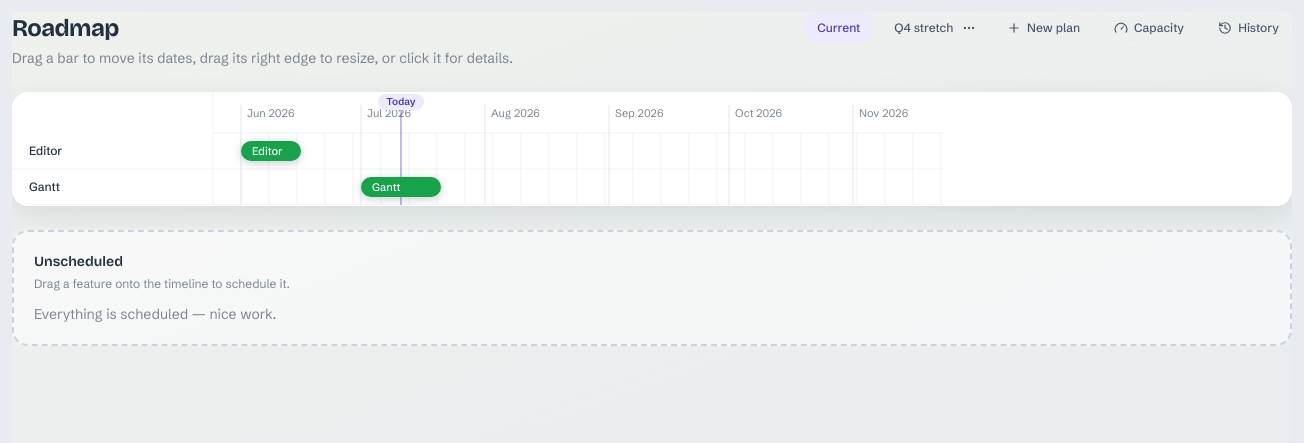
Scenario: Roadmap scenario mode › shows the banner and renders bars from plan entries
Click the button with test id "plan-pill-plan-1" at x=924, y=28, box [894,20,953,36]
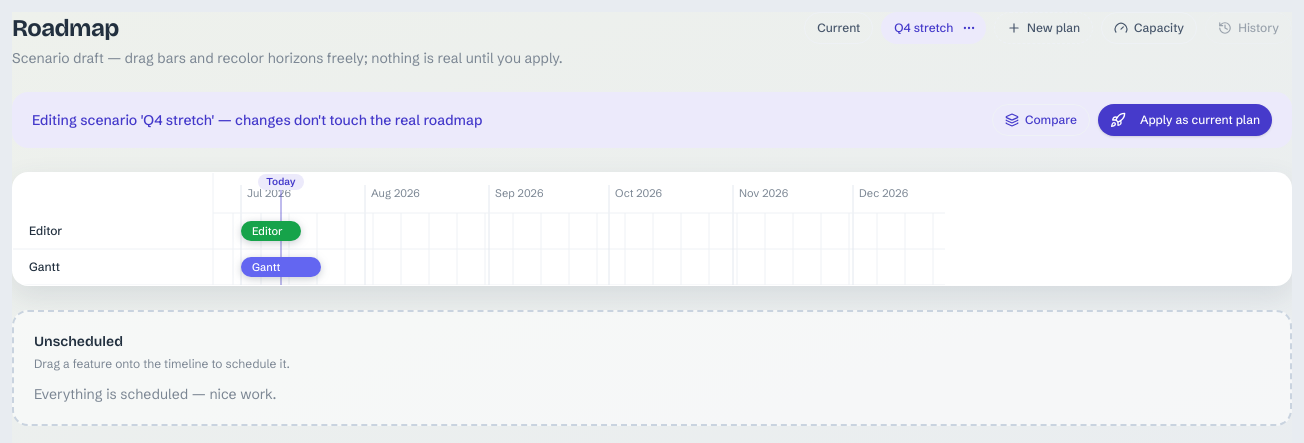
Result: the element with test id "scenario-banner" shows "Editing scenario 'Q4 stretch'" at [12,92,1292,148]
